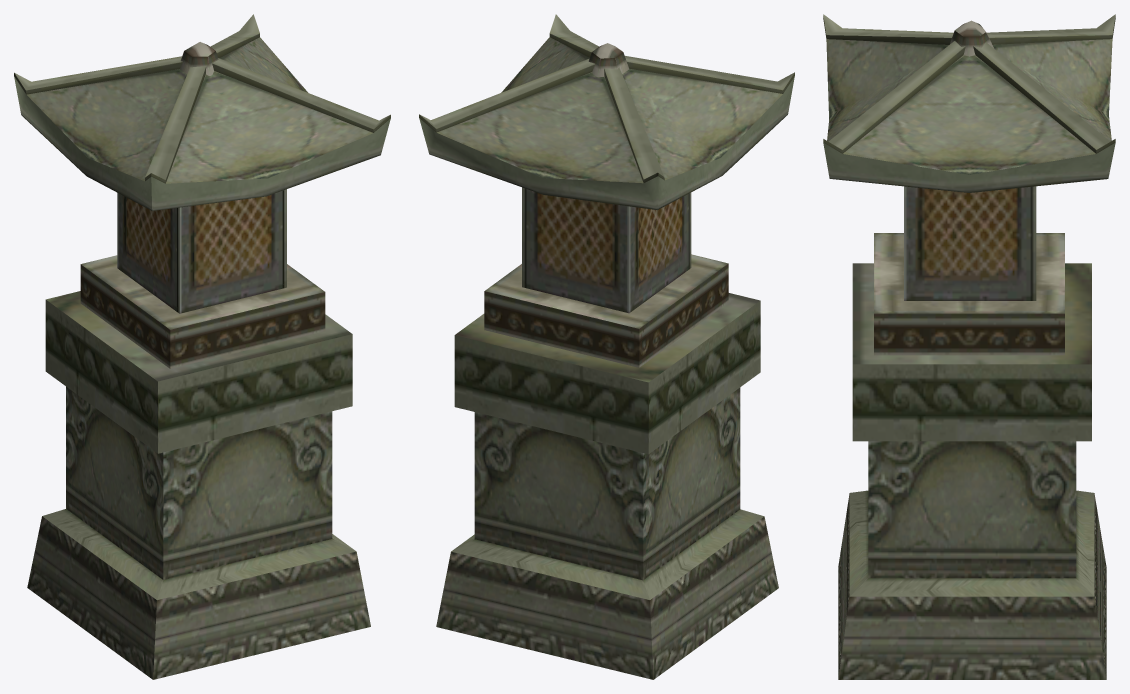
3 views of the same model, side by side, from view 1: azimuth 30°, elevation 25°; view 2: azimuth 150°, elevation 25°; view 3: azimuth 270°, elevation 25° (orthographic). The views are drawn at different scales.
Visible parts, largest first — view 1: z_jz_dm_dj_08; view 2: z_jz_dm_dj_08; view 3: z_jz_dm_dj_08.
Boxes of the visible parts, <box> form: z_jz_dm_dj_08: <box>14,14,390,679</box>; z_jz_dm_dj_08: <box>419,14,794,679</box>; z_jz_dm_dj_08: <box>823,14,1115,679</box>.
Size of the model in its own units: 62.26 by 140 by 61.78.
